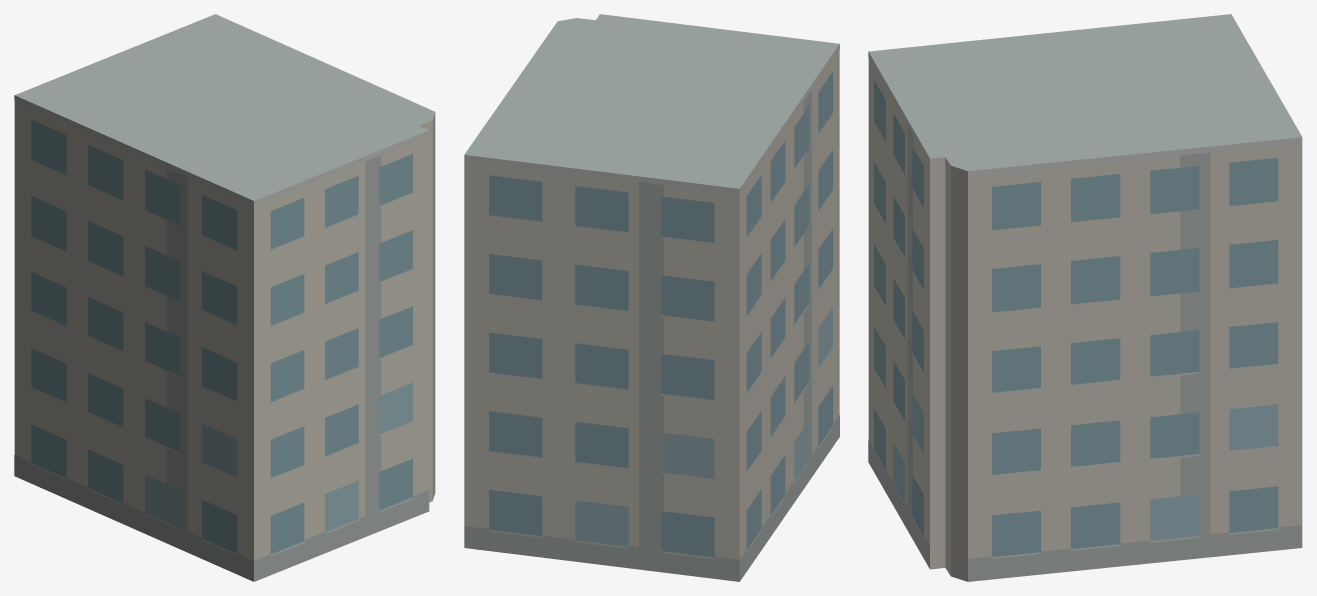
The model's file is survey-upis-32638619.glb.
The picture shows the model from 3 angles, left to right: view 1: azimuth 30°, elevation 25°; view 2: azimuth 150°, elevation 25°; view 3: azimuth 270°, elevation 25°; orthographic projection. The views are drawn at different scales.
Visible parts, largest first — view 1: survey-upis-32638619.tmp; view 2: survey-upis-32638619.tmp; view 3: survey-upis-32638619.tmp.
Boxes of the visible parts, x1,y1,x2,y2 form: survey-upis-32638619.tmp: [14, 14, 435, 581]; survey-upis-32638619.tmp: [464, 14, 839, 581]; survey-upis-32638619.tmp: [868, 14, 1302, 581].
Bounding box in the file's own units: 13.96 × 17 × 16.29.
